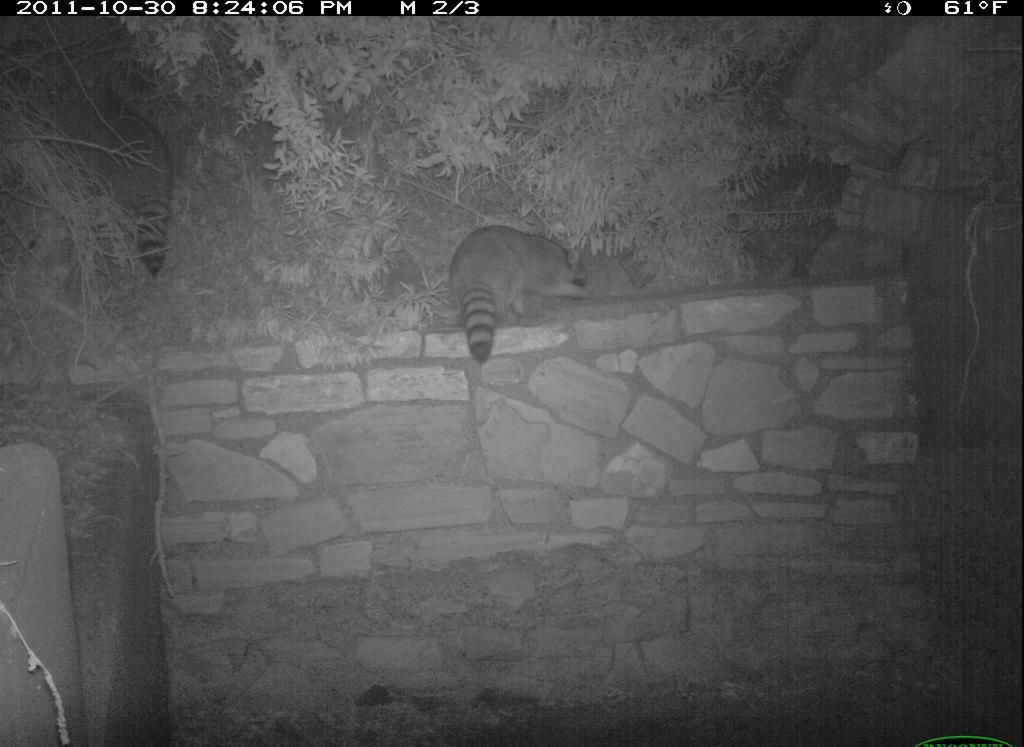raccoon: (438, 214, 593, 363), (61, 75, 176, 274)
